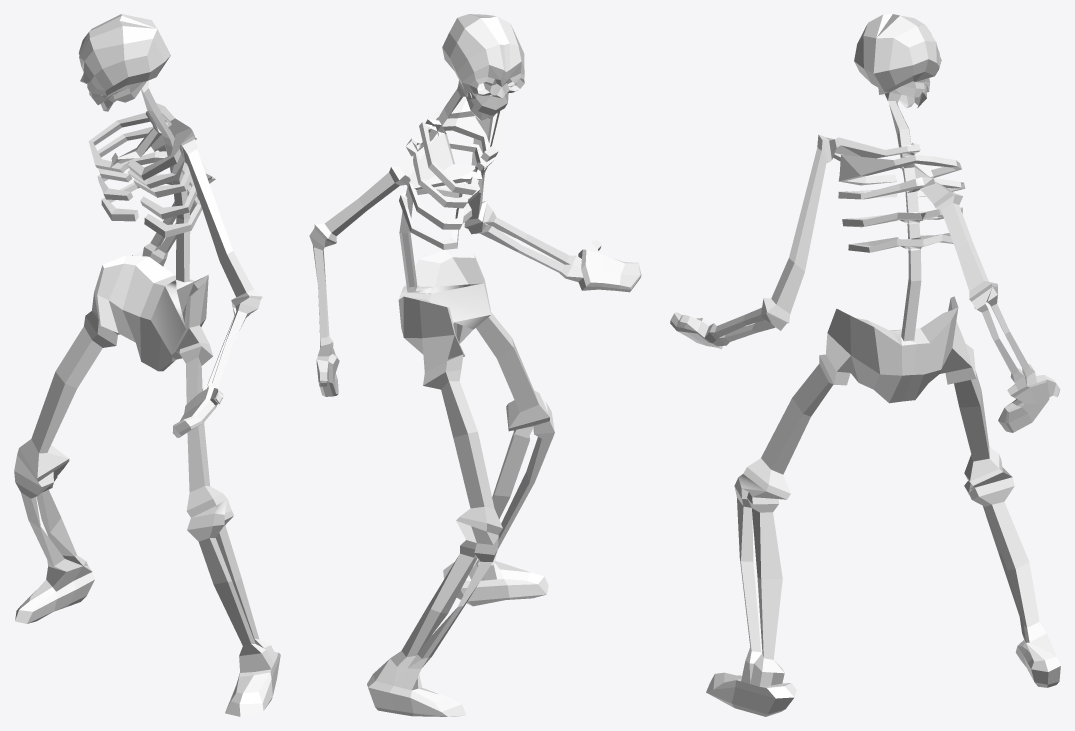
The model's file is SkeletonIdle(84).obj.
3 renders of one model, left to right at view 1: azimuth 30°, elevation 25°; view 2: azimuth 150°, elevation 25°; view 3: azimuth 270°, elevation 25°, orthographic. The views are drawn at different scales.
Parts seen in each view (by area): view 1: Object002; view 2: Object002; view 3: Object002.
Part boxes in pixels (x1,y1,x2,y2): Object002: (14,14,280,716); Object002: (309,14,641,716); Object002: (670,14,1060,716).
Size of the model in its own units: 354 by 1135 by 610.
